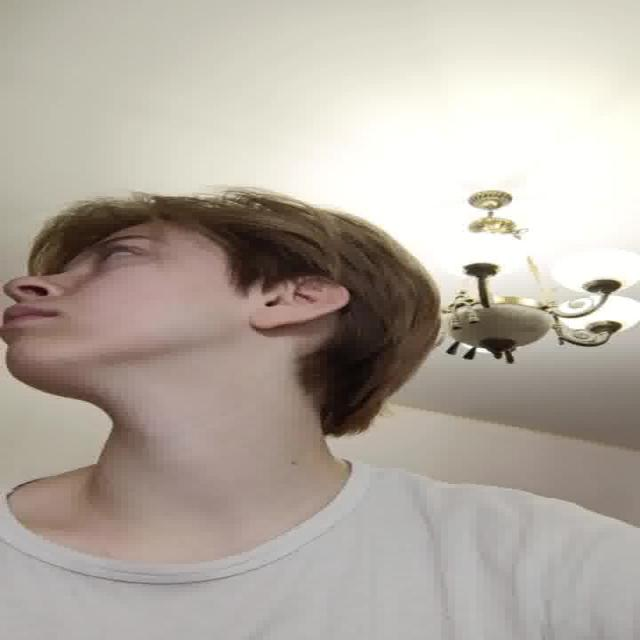earlobe: (247, 313, 300, 331)
eye: (98, 250, 144, 264)
nose: (8, 292, 49, 310)
wholeear: (252, 273, 352, 331)
